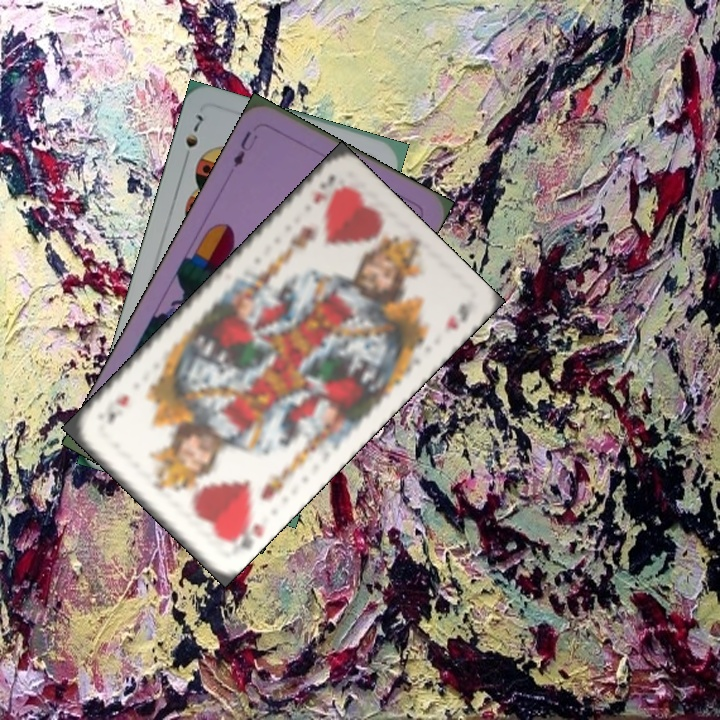EU: (229, 126, 261, 170)
HK: (221, 509, 266, 552), (309, 169, 339, 206)
S7: (179, 110, 206, 166)
